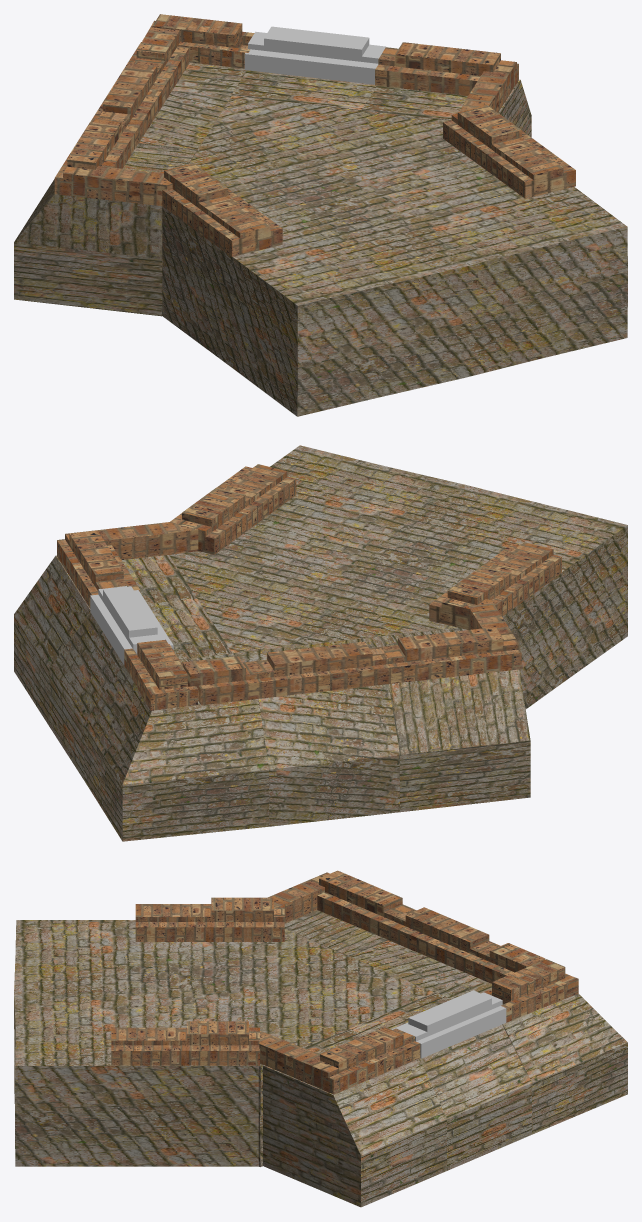
Rendered from Bastion2.fbx.
The picture shows the model from 3 angles, top to bottom: view 1: azimuth 30°, elevation 25°; view 2: azimuth 150°, elevation 25°; view 3: azimuth 270°, elevation 25°; orthographic projection. The views are drawn at different scales.
Parts seen in each view (by area): view 1: RampartBody.009, RampartBody.010, Rampart.015, Rampart.014, Rampart.010, Rampart.013, Rampart.011, Rampart.012, RampartBody.011, RampartBody.012, StoneRampartWithStair.004, RampartBody.008; view 2: RampartBody.009, RampartBody.008, RampartBody.010, RampartBody.011, RampartBody.012, Rampart.012, Rampart.010, Rampart.015, Rampart.013, Rampart.014, StoneRampartWithStair.004, Rampart.011; view 3: RampartBody.009, RampartBody.012, RampartBody.011, RampartBody.008, Rampart.015, Rampart.014, Rampart.013, Rampart.012, Rampart.010, Rampart.011, StoneRampartWithStair.004, RampartBody.010.
Boxes of the visible parts, bbox=[...] form: RampartBody.009: bbox=[50, 91, 627, 416]; RampartBody.010: bbox=[14, 143, 196, 316]; Rampart.015: bbox=[375, 42, 518, 112]; Rampart.014: bbox=[443, 105, 575, 198]; Rampart.010: bbox=[54, 118, 172, 206]; Rampart.013: bbox=[159, 163, 282, 256]; Rampart.011: bbox=[244, 26, 385, 84]; Rampart.012: bbox=[90, 27, 189, 143]; RampartBody.011: bbox=[231, 70, 376, 110]; RampartBody.012: bbox=[361, 79, 531, 137]; StoneRampartWithStair.004: bbox=[142, 14, 254, 68]; RampartBody.008: bbox=[172, 62, 246, 94]; RampartBody.009: bbox=[169, 445, 627, 826]; RampartBody.008: bbox=[84, 653, 268, 841]; RampartBody.010: bbox=[360, 627, 530, 812]; RampartBody.011: bbox=[49, 598, 231, 780]; RampartBody.012: bbox=[14, 555, 196, 725]; Rampart.012: bbox=[182, 641, 390, 705]; Rampart.010: bbox=[381, 599, 521, 683]; Rampart.015: bbox=[57, 522, 198, 608]; Rampart.013: bbox=[429, 542, 561, 629]; Rampart.014: bbox=[169, 464, 296, 554]; StoneRampartWithStair.004: bbox=[124, 639, 197, 710]; Rampart.011: bbox=[90, 586, 173, 664]; RampartBody.009: bbox=[14, 920, 469, 1166]; RampartBody.012: bbox=[263, 1029, 446, 1207]; RampartBody.011: bbox=[349, 992, 531, 1170]; RampartBody.008: bbox=[436, 975, 627, 1134]; Rampart.015: bbox=[259, 1027, 420, 1094]; Rampart.014: bbox=[111, 1021, 259, 1065]; Rampart.013: bbox=[135, 897, 284, 941]; Rampart.012: bbox=[387, 907, 545, 983]; Rampart.010: bbox=[268, 870, 413, 939]; Rampart.011: bbox=[391, 990, 506, 1058]; StoneRampartWithStair.004: bbox=[483, 959, 578, 1022]; RampartBody.010: bbox=[284, 910, 387, 956].
Bounding box in the file's own units: 970 × 253 × 1102.
